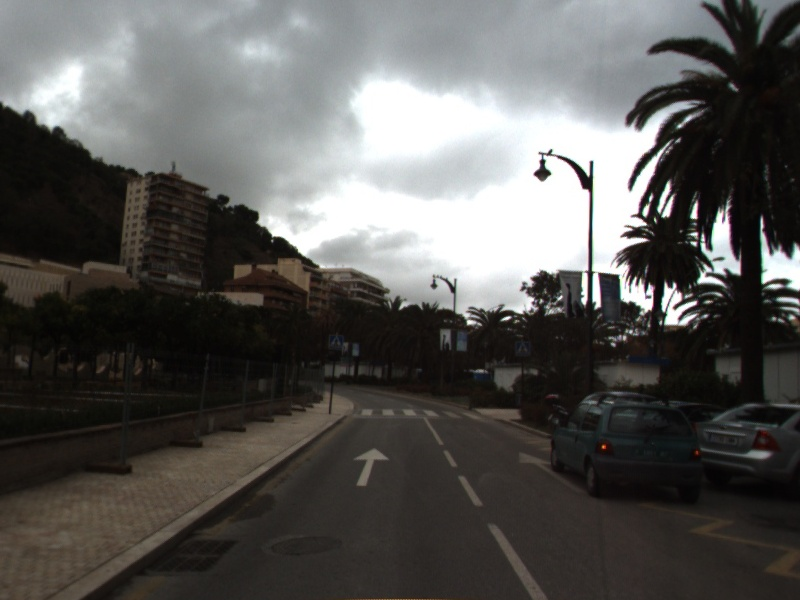STRAIGHT: (517, 450, 590, 495), (351, 446, 391, 488)
